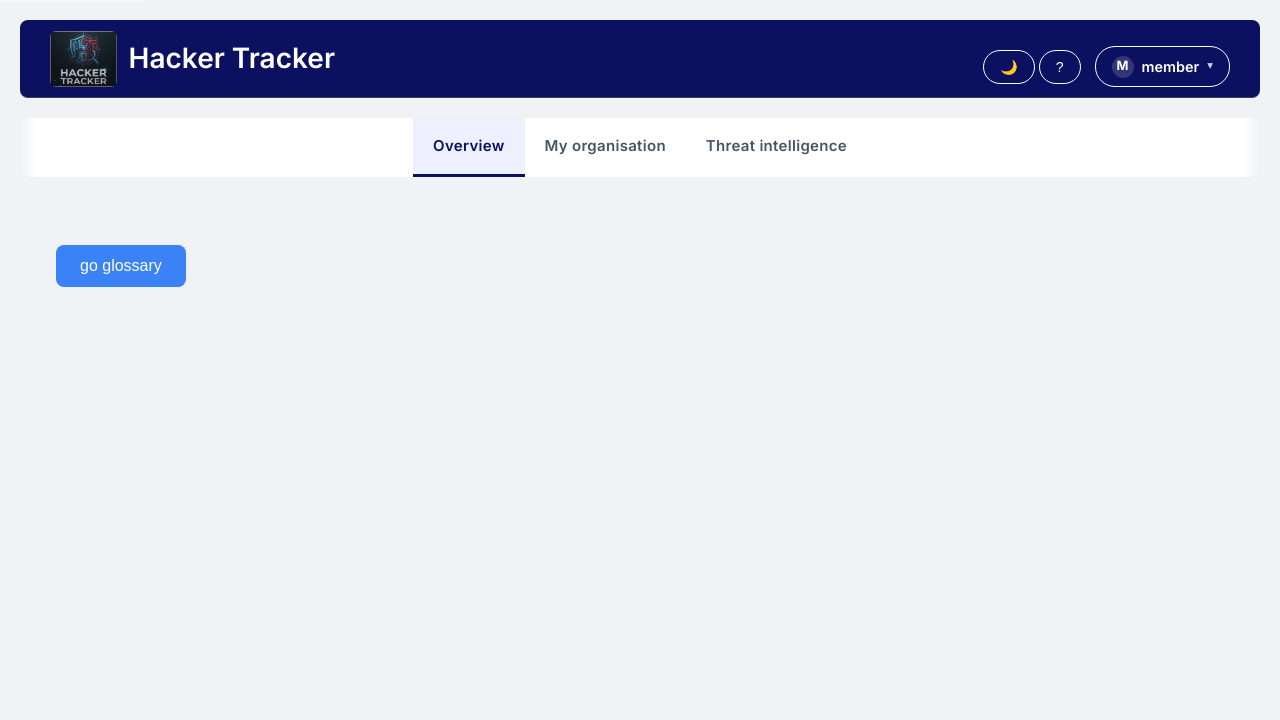
Test: AppShell › shows the full menu and glossary button with an organisation
This screenshot has width=1280, height=720.
Click the button with aria-label "Open profile menu".
click(1162, 66)  # box [1095, 46, 1230, 87]
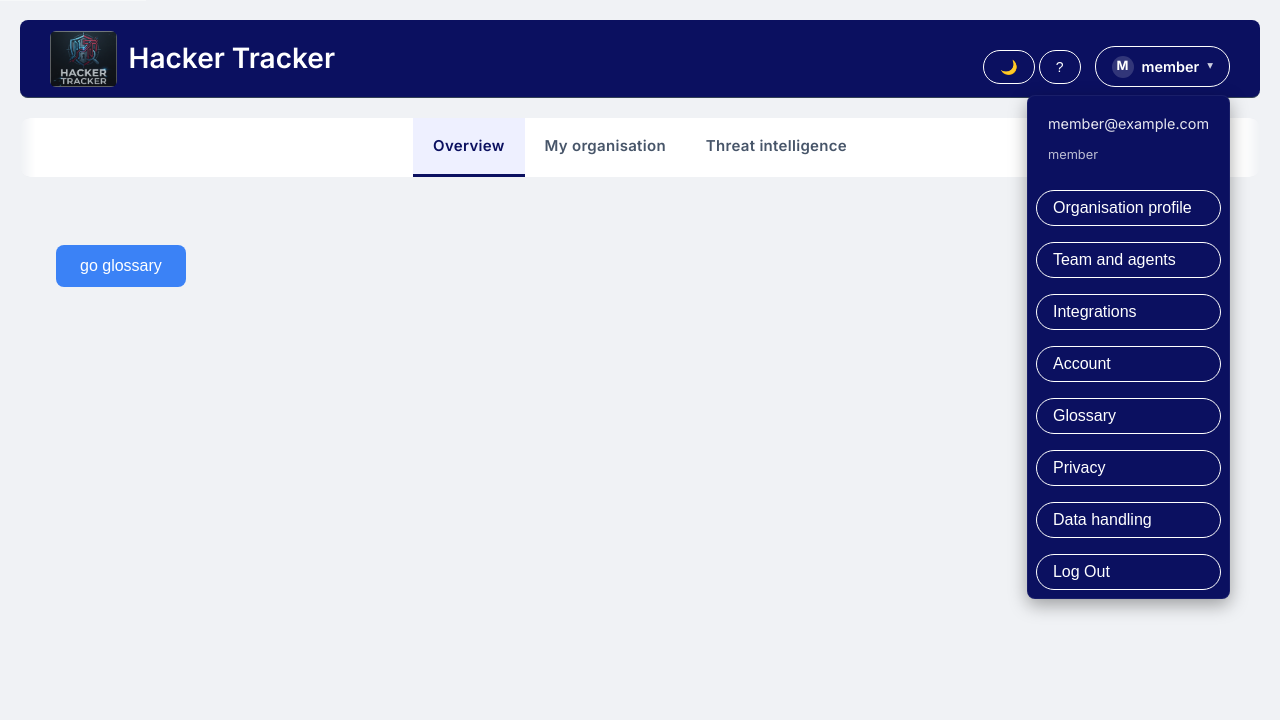
Check: the button named "Open glossary" is shown, box [1039, 50, 1081, 84]
Check: the menu item "Account" is shown, box [1036, 346, 1221, 382]
